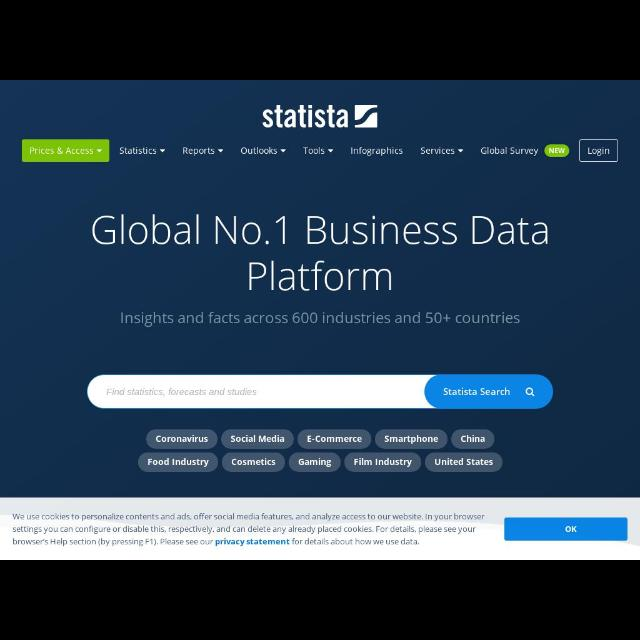icon: (525, 387, 535, 398), (96, 149, 102, 153), (458, 149, 462, 153), (218, 150, 224, 152), (280, 150, 286, 152), (328, 150, 334, 152), (160, 150, 164, 152)
iframe: (1, 498, 640, 558)
image: (354, 104, 378, 128)
input: (86, 374, 424, 408)
multitab: (120, 146, 538, 156)
spinner: (180, 146, 223, 156), (239, 146, 289, 154), (420, 146, 464, 154), (300, 145, 334, 155), (120, 148, 164, 154)
text: (12, 512, 484, 548), (92, 212, 550, 248), (120, 312, 522, 328), (246, 261, 394, 293), (261, 104, 349, 130), (106, 388, 256, 396), (353, 457, 412, 468), (146, 458, 210, 467), (482, 146, 538, 156), (434, 458, 494, 467), (444, 388, 510, 396), (351, 146, 403, 156), (29, 147, 92, 155), (229, 435, 285, 443), (307, 435, 361, 443), (385, 435, 439, 443), (231, 458, 277, 466), (298, 459, 332, 469), (156, 436, 208, 442), (183, 148, 215, 156), (461, 434, 485, 444), (588, 146, 610, 156), (120, 148, 156, 154), (241, 148, 277, 154), (422, 148, 454, 154), (303, 148, 325, 154), (549, 148, 565, 154), (566, 525, 576, 533)
textbutton: (426, 374, 554, 411), (504, 516, 628, 542), (21, 139, 110, 163), (138, 452, 218, 472), (425, 452, 503, 472), (344, 452, 422, 472), (375, 428, 447, 449), (298, 429, 372, 449), (221, 429, 293, 449), (145, 429, 217, 448), (222, 452, 286, 472), (290, 452, 342, 472), (579, 140, 619, 162), (451, 429, 495, 449)
toolbar: (21, 102, 619, 164)
